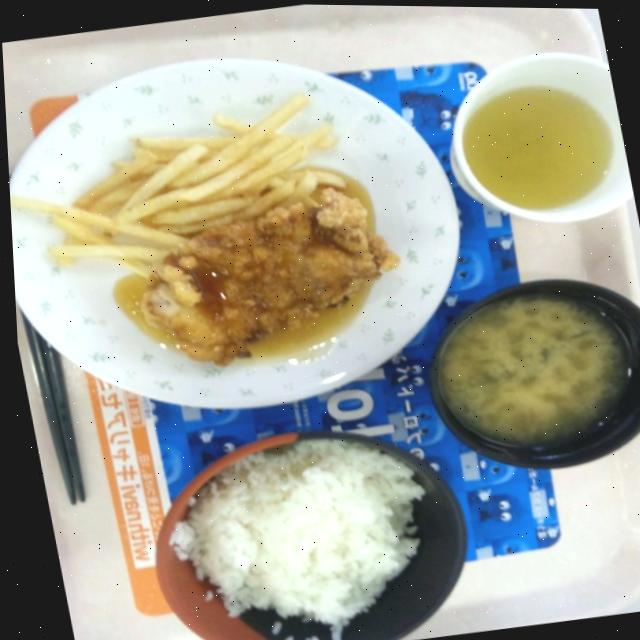炸货点心: (4, 69, 372, 292)
米饭主食: (127, 407, 480, 640)
